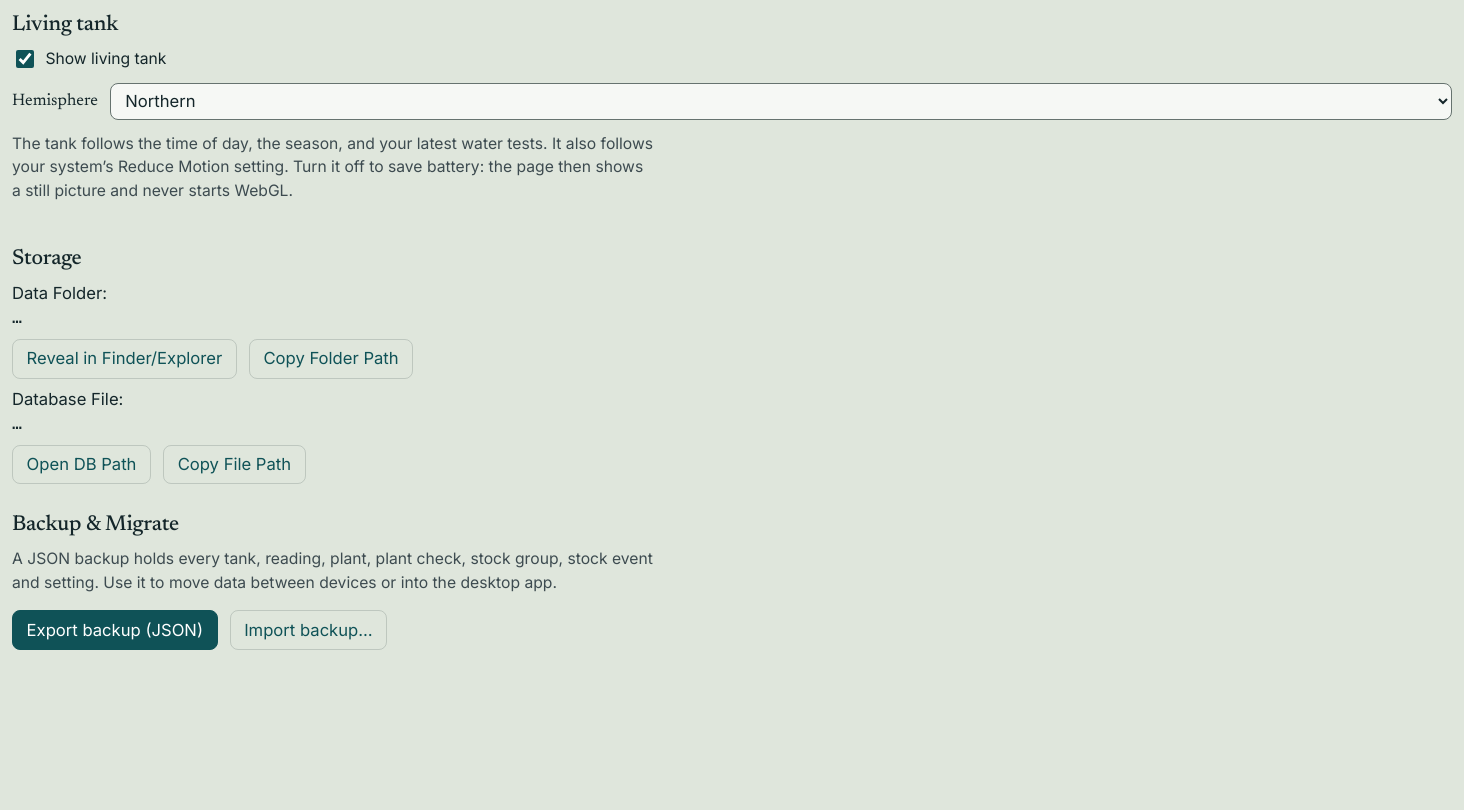
Test case: JSON export inside Tauri › shows an error and no success message when the write rejects (desktop)
The width and height of the screenshot is (1464, 810).
Click the button "Export backup (JSON)": (115, 630) [12,610,218,650]
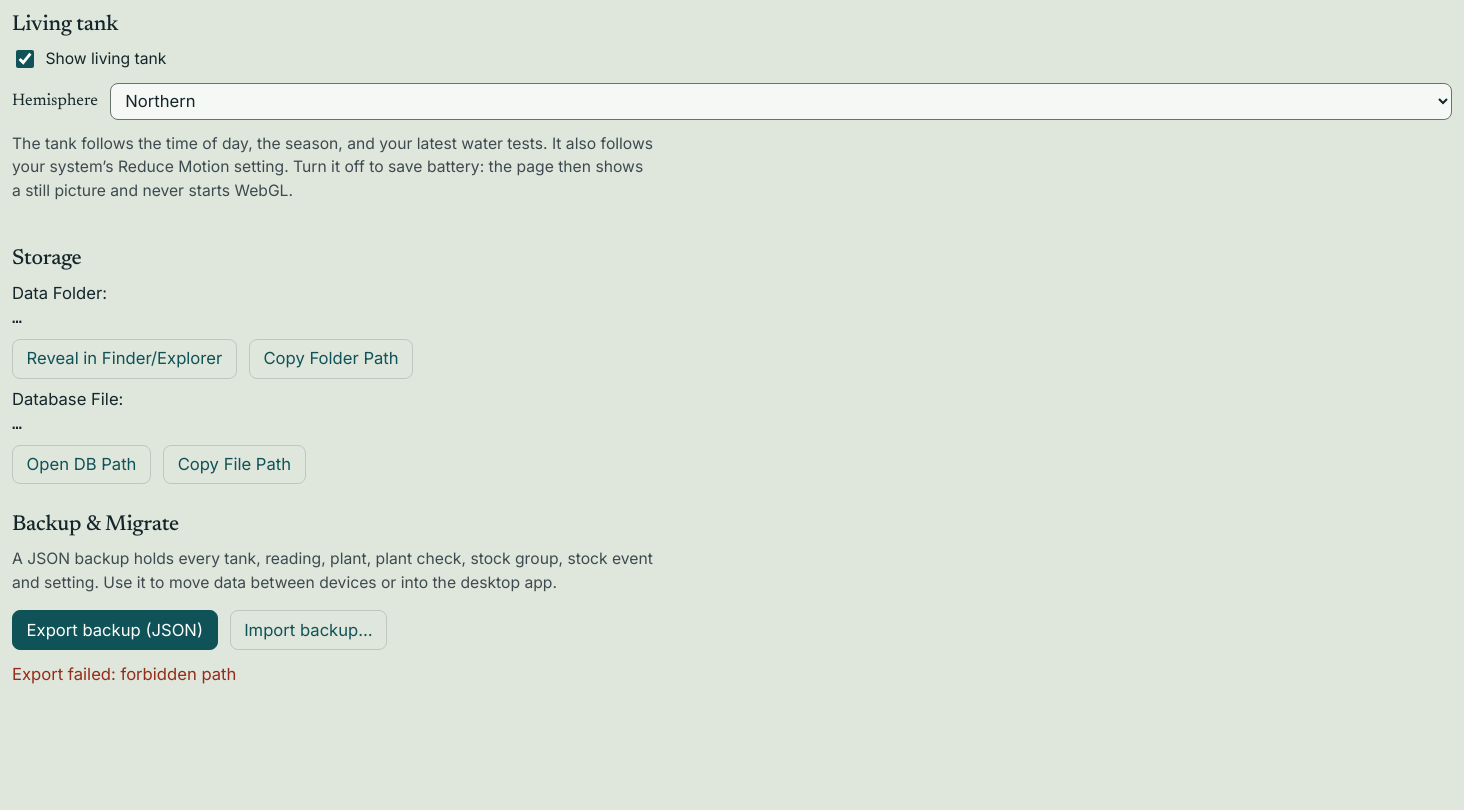
expect the text "Export failed: forbidden path" is shown: met, box [12,664,236,684]
